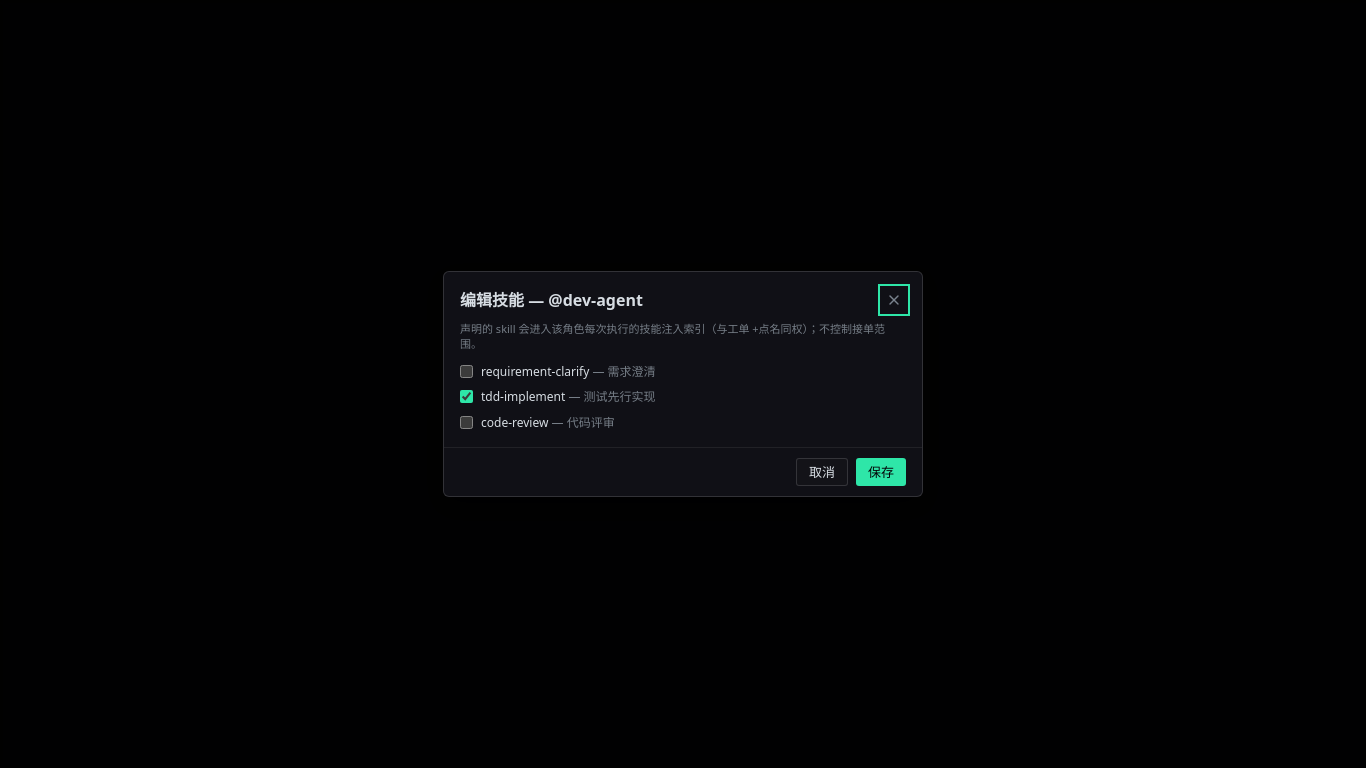
Test case: RoleSkillsModal（#462） › 保存失败 → 内联错误，不关窗
Expected: the text "tdd-implement" is shown, x1=481 y1=388 x2=565 y2=406
Click the button "保存" at coordinates (881, 472), box x1=856 y1=458 x2=906 y2=486
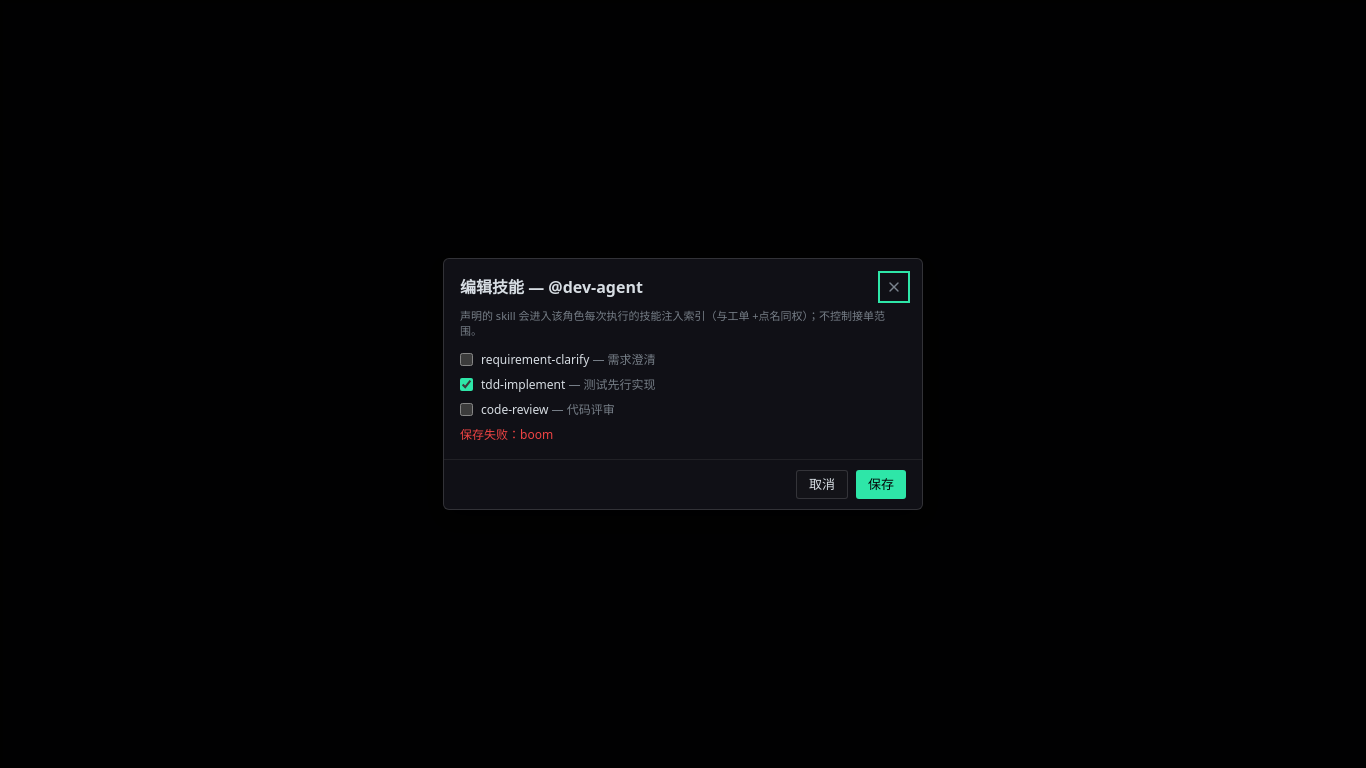
Now the text "保存失败：boom" is shown, box x1=460 y1=426 x2=553 y2=443
